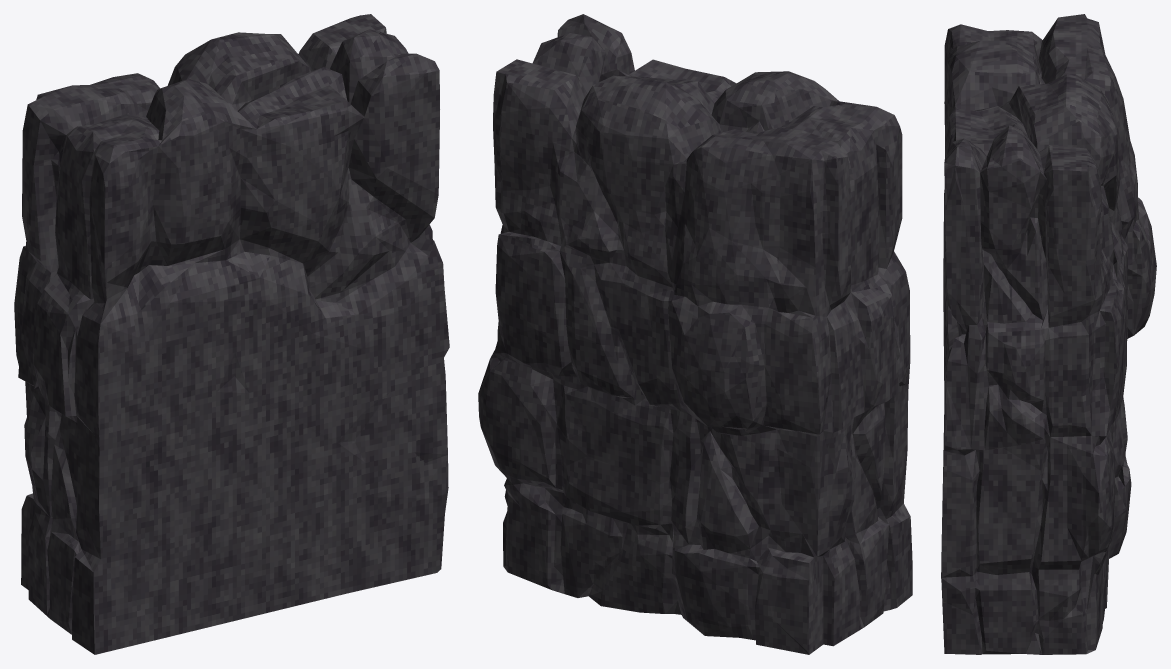
The model's file is stone-wall2.glb.
3 renders of one model, left to right at view 1: azimuth 30°, elevation 25°; view 2: azimuth 150°, elevation 25°; view 3: azimuth 270°, elevation 25°, orthographic. The views are drawn at different scales.
Visible parts, largest first — view 1: Cube.003; view 2: Cube.003; view 3: Cube.003.
Part boxes in pixels (x1=…): Cube.003: x1=14, y1=14, x2=449, y2=654; Cube.003: x1=478, y1=14, x2=912, y2=654; Cube.003: x1=941, y1=14, x2=1156, y2=654.
Bounding box in the file's own units: 4.72 × 6.35 × 2.42.
Materials: 1 (1 with a texture image).
